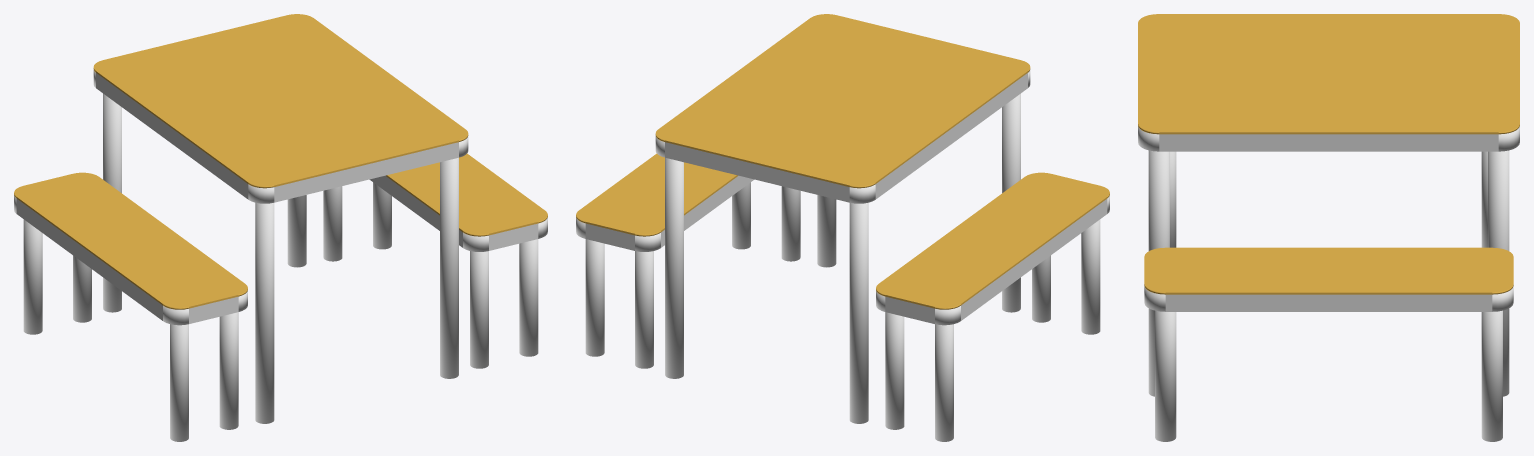
Rendered from rgiro_quickcamp_table.dae.
The picture shows the model from 3 angles, left to right: view 1: azimuth 30°, elevation 25°; view 2: azimuth 150°, elevation 25°; view 3: azimuth 270°, elevation 25°; orthographic projection. The views are drawn at different scales.
Parts seen in each view (by area): view 1: rgiro_quickcamp_table; view 2: rgiro_quickcamp_table; view 3: rgiro_quickcamp_table.
Boxes of the visible parts, x1,y1,x2,y2 form: rgiro_quickcamp_table: (14, 14, 547, 441); rgiro_quickcamp_table: (576, 14, 1109, 441); rgiro_quickcamp_table: (1138, 14, 1519, 441).
Size of the model in its own units: 1.16 by 0.9 by 0.7.
